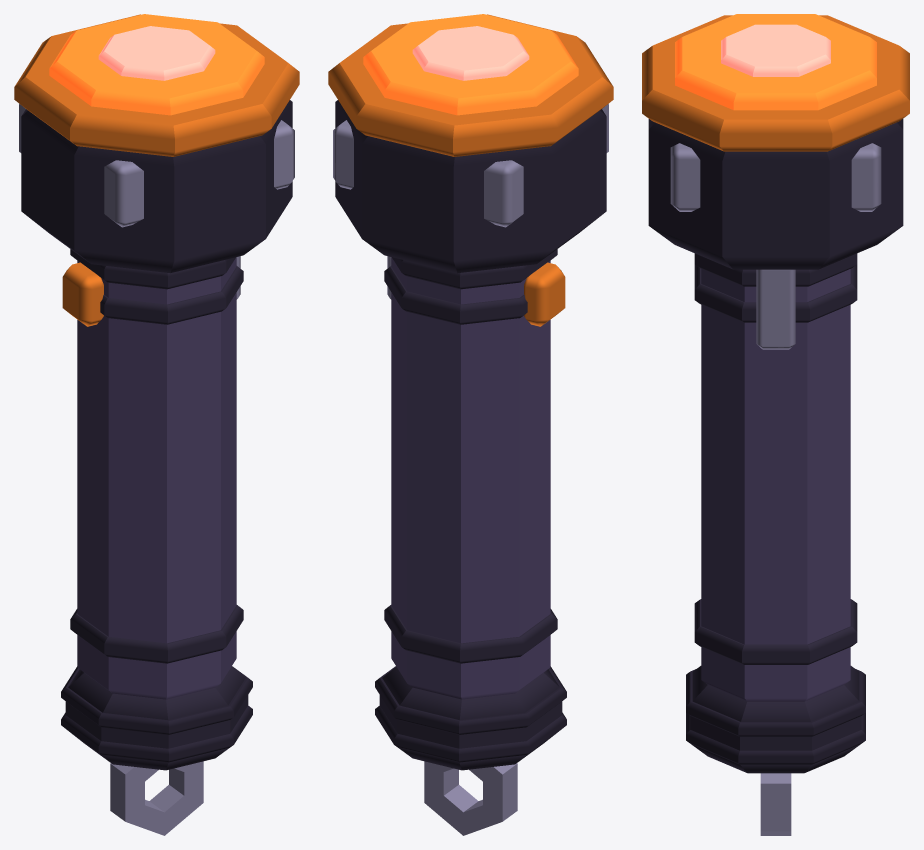
Rendered from flashlight.glb.
3 views of the same model, side by side, from view 1: azimuth 30°, elevation 25°; view 2: azimuth 150°, elevation 25°; view 3: azimuth 270°, elevation 25° (orthographic).
Visible parts, largest first — view 1: item.flashlight.body; view 2: item.flashlight.body; view 3: item.flashlight.body.
Part boxes in pixels (x1,y1,x2,y2): item.flashlight.body: (14,14,299,835); item.flashlight.body: (328,14,613,835); item.flashlight.body: (642,14,909,835).
Bounding box in the file's own units: 0.1906 × 0.6203 × 0.1906.
